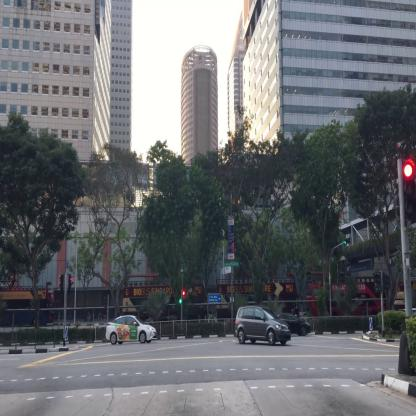red_traffic_light: (402, 161, 416, 217)
